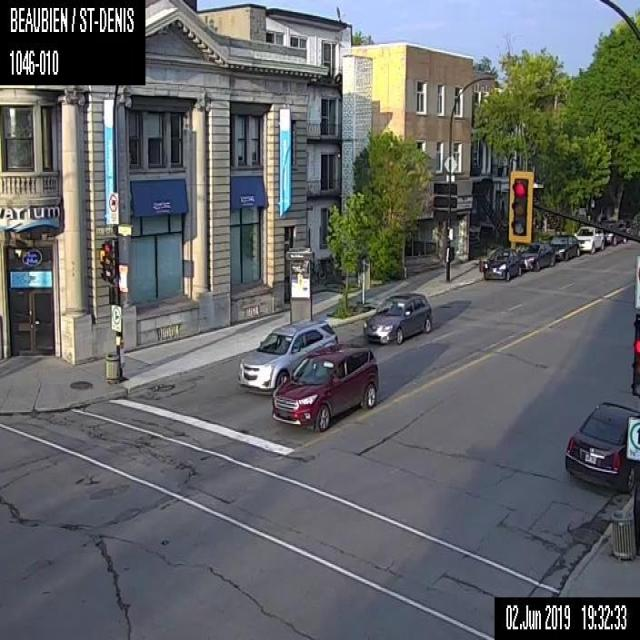vehicle: (270, 342, 378, 430), (237, 320, 337, 394), (564, 401, 639, 492), (363, 292, 431, 344), (483, 246, 521, 281), (518, 241, 555, 270), (572, 225, 604, 253), (549, 234, 579, 260), (600, 219, 626, 245)
